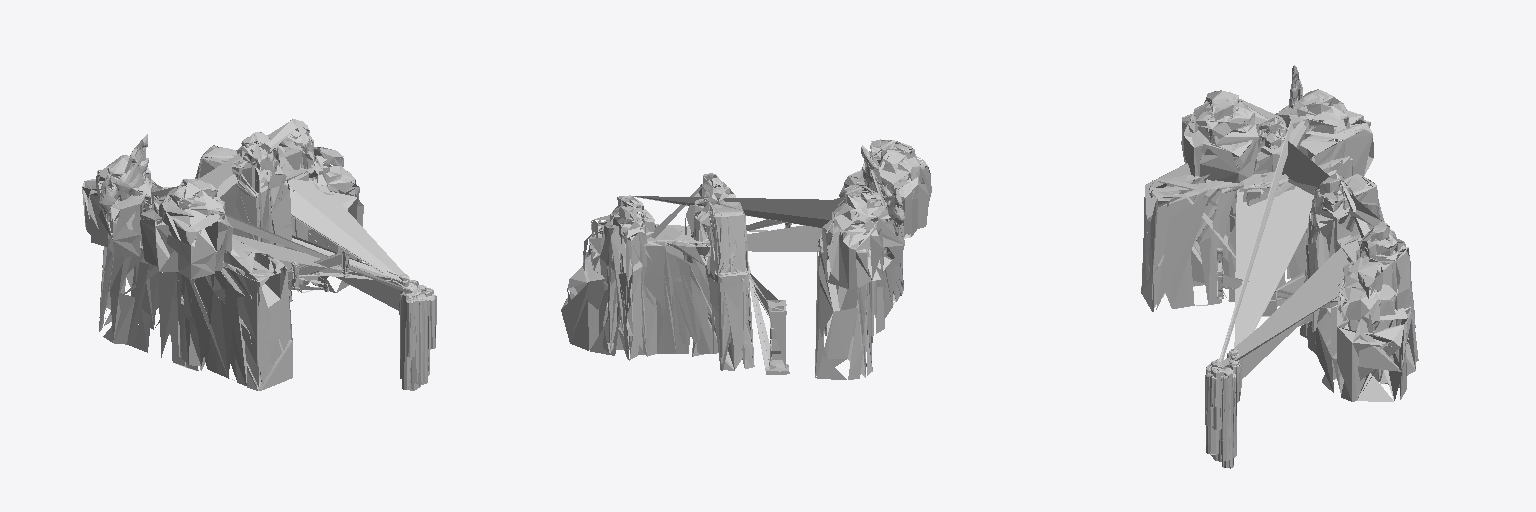
File: cellDesert_Bridges_Proxy-sharedassets3.assets-561.obj
The picture shows the model from 3 angles: view 1: azimuth 30°, elevation 25°; view 2: azimuth 150°, elevation 25°; view 3: azimuth 270°, elevation 25°; orthographic projection.
Parts seen in each view (by area): view 1: cellDesert_Bridges_Proxy_1, cellDesert_Bridges_Proxy_3, cellDesert_Bridges_Proxy_2, cellDesert_Bridges_Proxy_0, cellDesert_Bridges_Proxy_5; view 2: cellDesert_Bridges_Proxy_1, cellDesert_Bridges_Proxy_3, cellDesert_Bridges_Proxy_0, cellDesert_Bridges_Proxy_2, cellDesert_Bridges_Proxy_5; view 3: cellDesert_Bridges_Proxy_1, cellDesert_Bridges_Proxy_3, cellDesert_Bridges_Proxy_2, cellDesert_Bridges_Proxy_0.
Boxes of the visible parts, x1=… form: cellDesert_Bridges_Proxy_1: x1=82, y1=119, x2=435, y2=390; cellDesert_Bridges_Proxy_3: x1=82, y1=119, x2=435, y2=390; cellDesert_Bridges_Proxy_2: x1=100, y1=120, x2=436, y2=390; cellDesert_Bridges_Proxy_0: x1=100, y1=139, x2=413, y2=310; cellDesert_Bridges_Proxy_5: x1=98, y1=134, x2=148, y2=222; cellDesert_Bridges_Proxy_1: x1=561, y1=139, x2=931, y2=379; cellDesert_Bridges_Proxy_3: x1=599, y1=140, x2=931, y2=379; cellDesert_Bridges_Proxy_0: x1=629, y1=164, x2=902, y2=370; cellDesert_Bridges_Proxy_2: x1=589, y1=140, x2=904, y2=374; cellDesert_Bridges_Proxy_5: x1=861, y1=145, x2=904, y2=235; cellDesert_Bridges_Proxy_1: x1=1141, y1=65, x2=1418, y2=460; cellDesert_Bridges_Proxy_3: x1=1141, y1=73, x2=1418, y2=468; cellDesert_Bridges_Proxy_2: x1=1141, y1=88, x2=1417, y2=467; cellDesert_Bridges_Proxy_0: x1=1219, y1=76, x2=1398, y2=378.
Bounding box in the file's own units: 259 × 238 × 212.